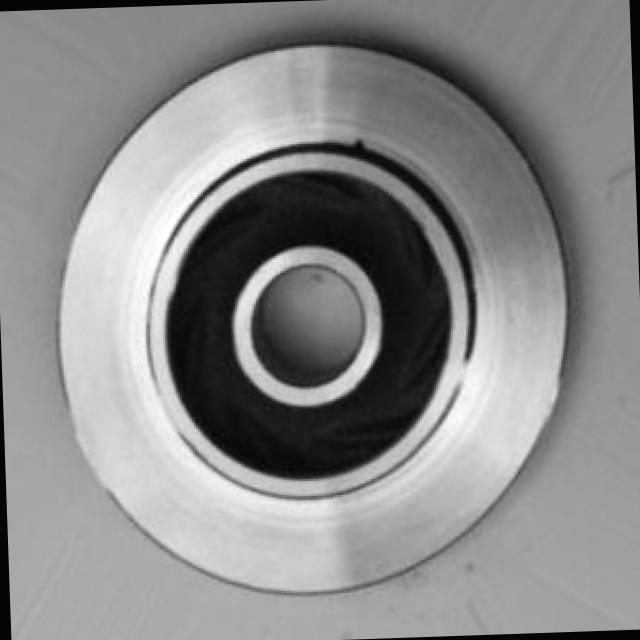Defect: (348, 131, 383, 170)
